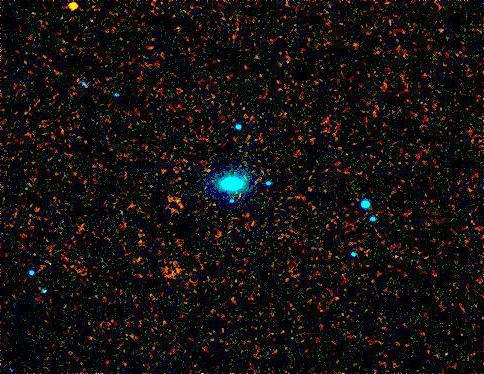star: (57, 0, 87, 21)
